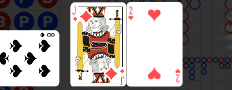2H: (127, 5, 134, 21)
6C: (38, 31, 56, 38)
